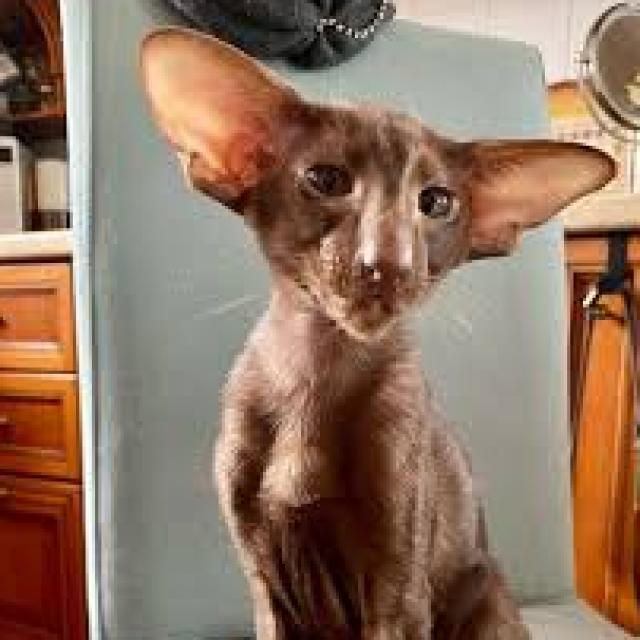Oriental: (133, 16, 621, 640)
